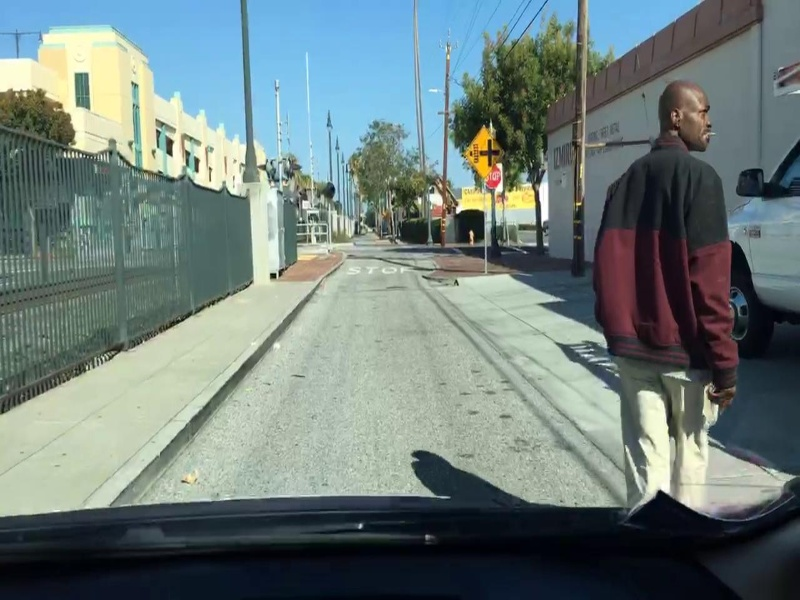car: (721, 83, 799, 354)
person: (591, 75, 747, 523)
